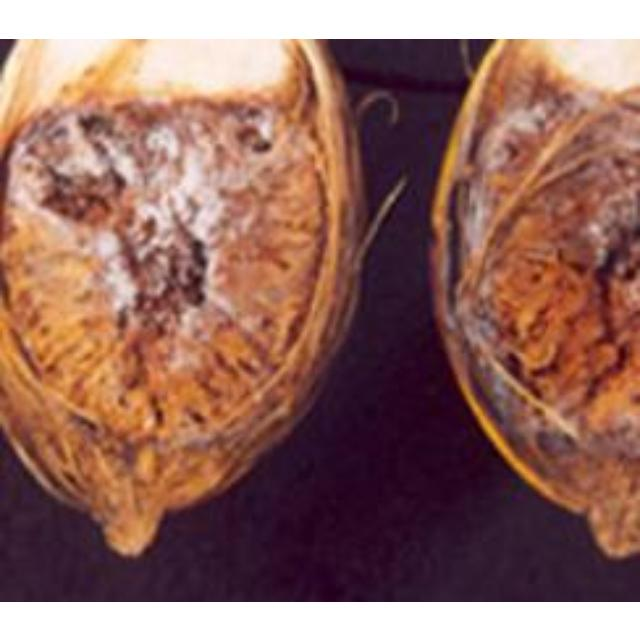damaged: (0, 38, 372, 552), (433, 38, 637, 555)
